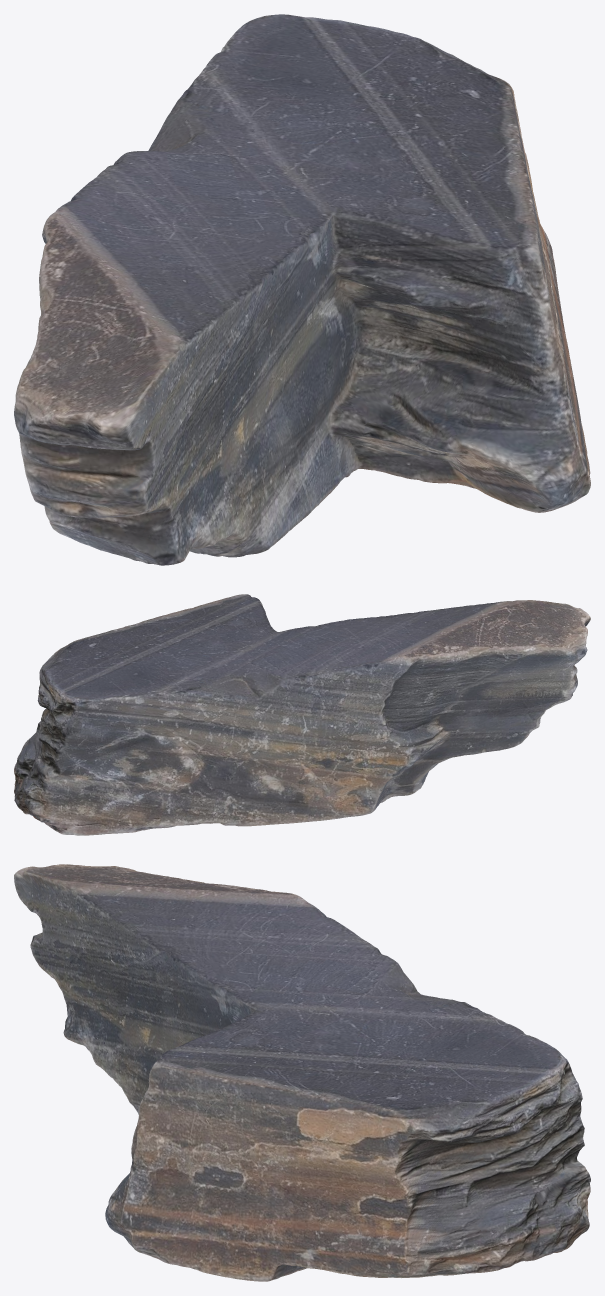
The model's file is slate.glb.
3 renders of one model, top to bottom at view 1: azimuth 30°, elevation 25°; view 2: azimuth 150°, elevation 25°; view 3: azimuth 270°, elevation 25°, orthographic. The views are drawn at different scales.
Visible parts, largest first — view 1: Object_6; view 2: Object_6; view 3: Object_6.
Boxes of the visible parts, x1,y1,x2,y2 form: Object_6: [14, 14, 590, 565]; Object_6: [14, 594, 590, 835]; Object_6: [14, 864, 590, 1281].
Size of the model in its own units: 0.14 by 0.0542 by 0.1305.
1 material, 1 textured.
